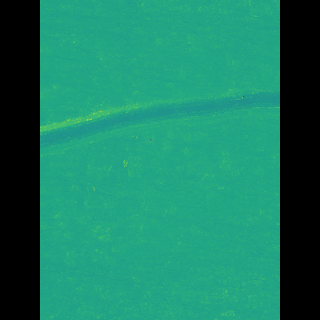Loch: (69, 85, 250, 153)
